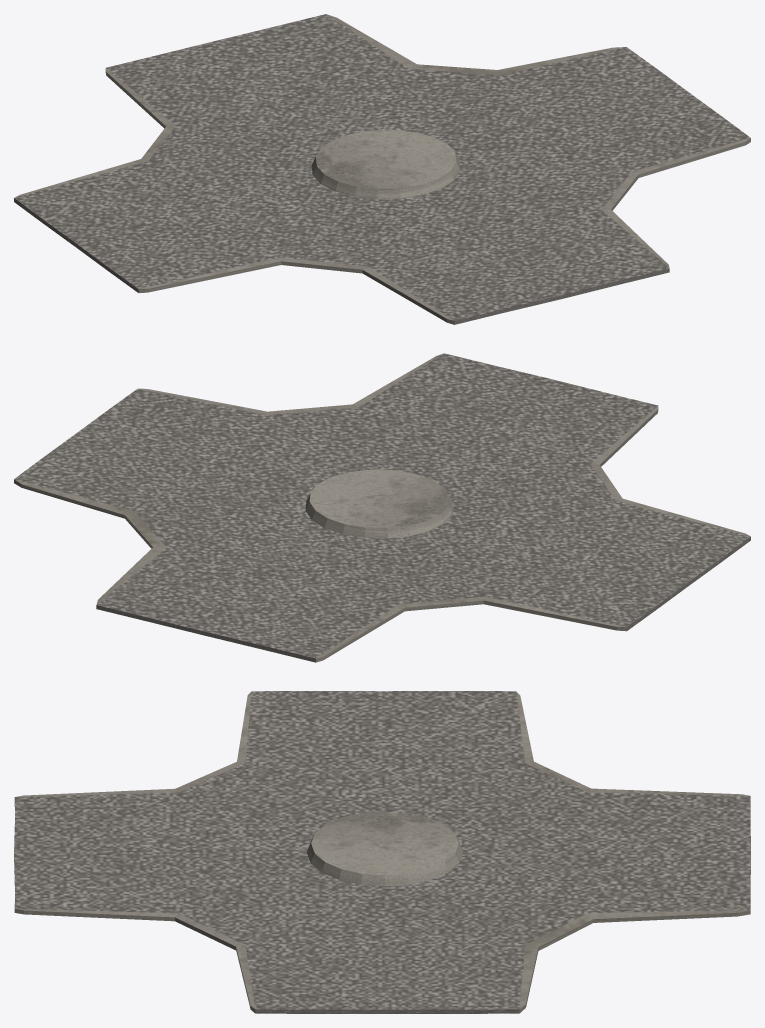
The model's file is Roundabout.fbx.
3 views of the same model, one above another, from view 1: azimuth 30°, elevation 25°; view 2: azimuth 150°, elevation 25°; view 3: azimuth 270°, elevation 25° (orthographic). The views are drawn at different scales.
Parts seen in each view (by area): view 1: pCylinder14; view 2: pCylinder14; view 3: pCylinder14.
Part boxes in pixels (left/top/right/bottom): pCylinder14: left=14, top=14, right=750, bottom=324; pCylinder14: left=14, top=353, right=750, bottom=662; pCylinder14: left=14, top=691, right=750, bottom=1013.
Bounding box in the file's own units: 5497 × 103 × 5375.
